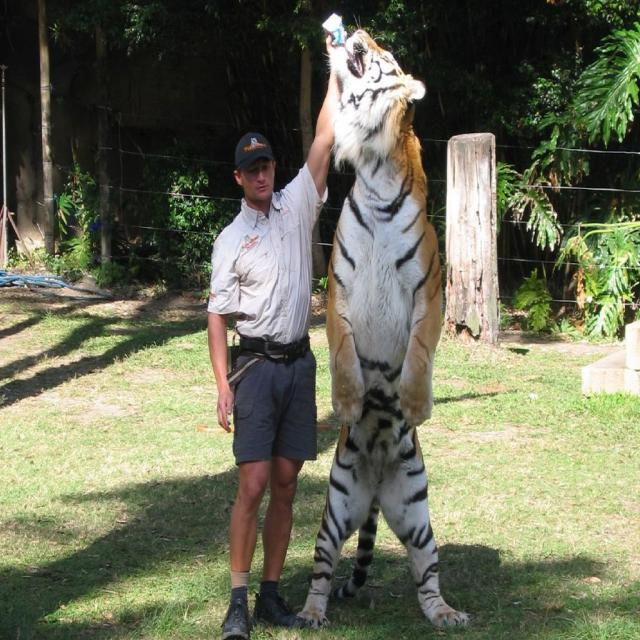Tiger: (296, 12, 472, 634)
